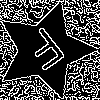F: (20, 25, 75, 80)
